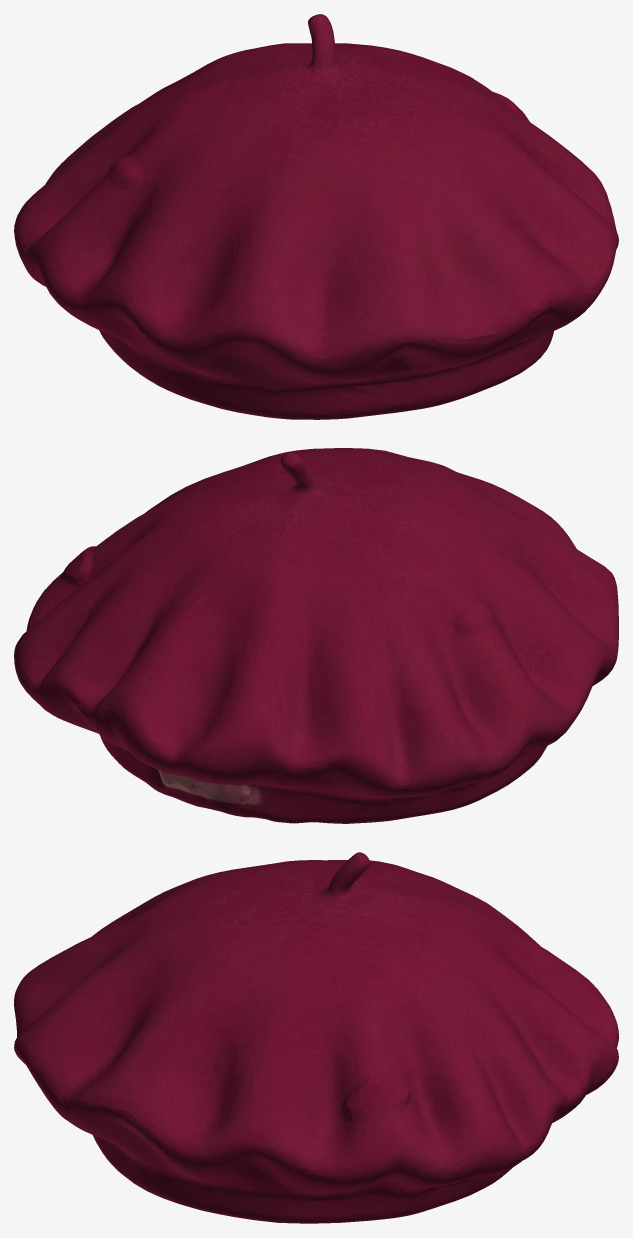
The model's file is mk_beret.glb.
3 renders of one model, top to bottom at view 1: azimuth 30°, elevation 25°; view 2: azimuth 150°, elevation 25°; view 3: azimuth 270°, elevation 25°, orthographic. The views are drawn at different scales.
Bounding box in the file's own units: 1.8 × 0.9956 × 1.9.
1 material, 1 textured.
